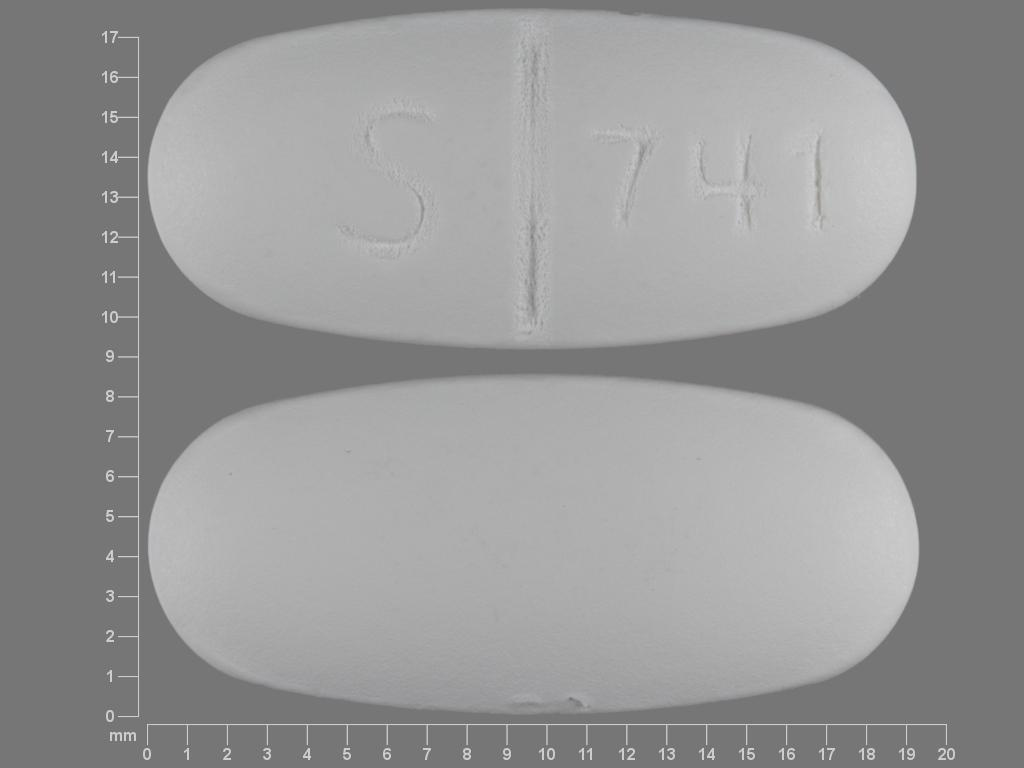Pill: (145, 368, 930, 724), (144, 4, 928, 360)
